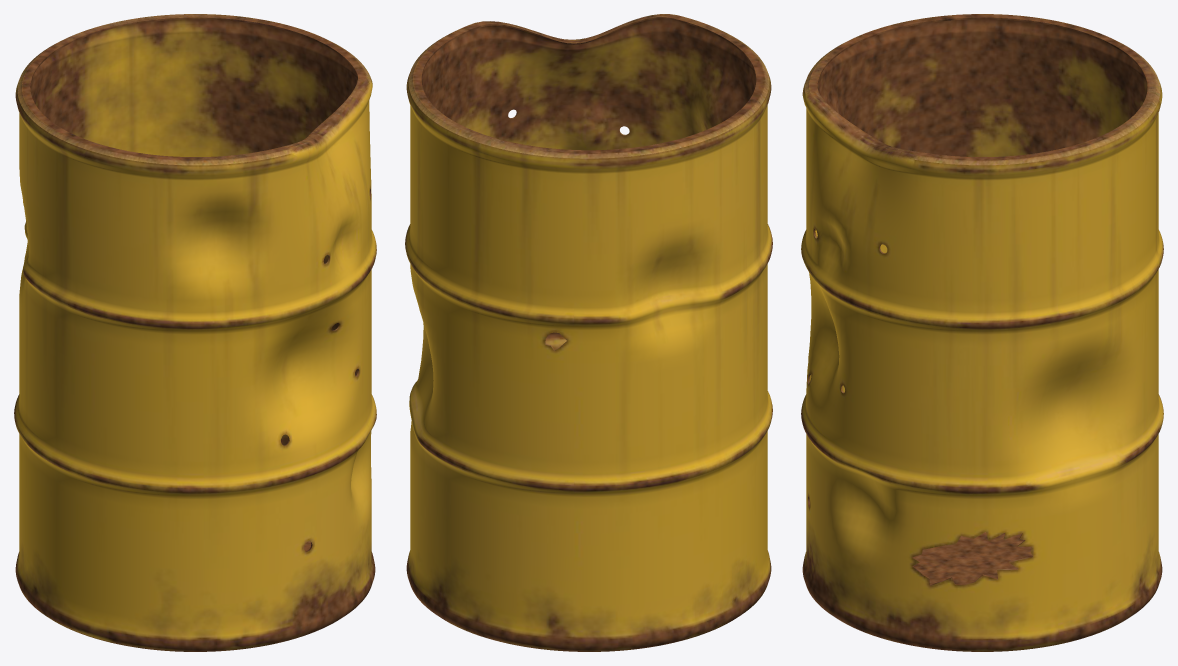
File: Barrel_Yellow_Damaged.glb
3 views of the same model, side by side, from view 1: azimuth 30°, elevation 25°; view 2: azimuth 150°, elevation 25°; view 3: azimuth 270°, elevation 25° (orthographic).
Visible parts, largest first — view 1: Barrel_Yellow_Damaged; view 2: Barrel_Yellow_Damaged; view 3: Barrel_Yellow_Damaged.
Boxes of the visible parts, x1,y1,x2,y2 form: Barrel_Yellow_Damaged: (14, 14, 376, 651); Barrel_Yellow_Damaged: (405, 14, 772, 651); Barrel_Yellow_Damaged: (801, 14, 1163, 651).
Size of the model in its own units: 0.589 by 0.88 by 0.589.
Materials: 1 (1 with a texture image).
